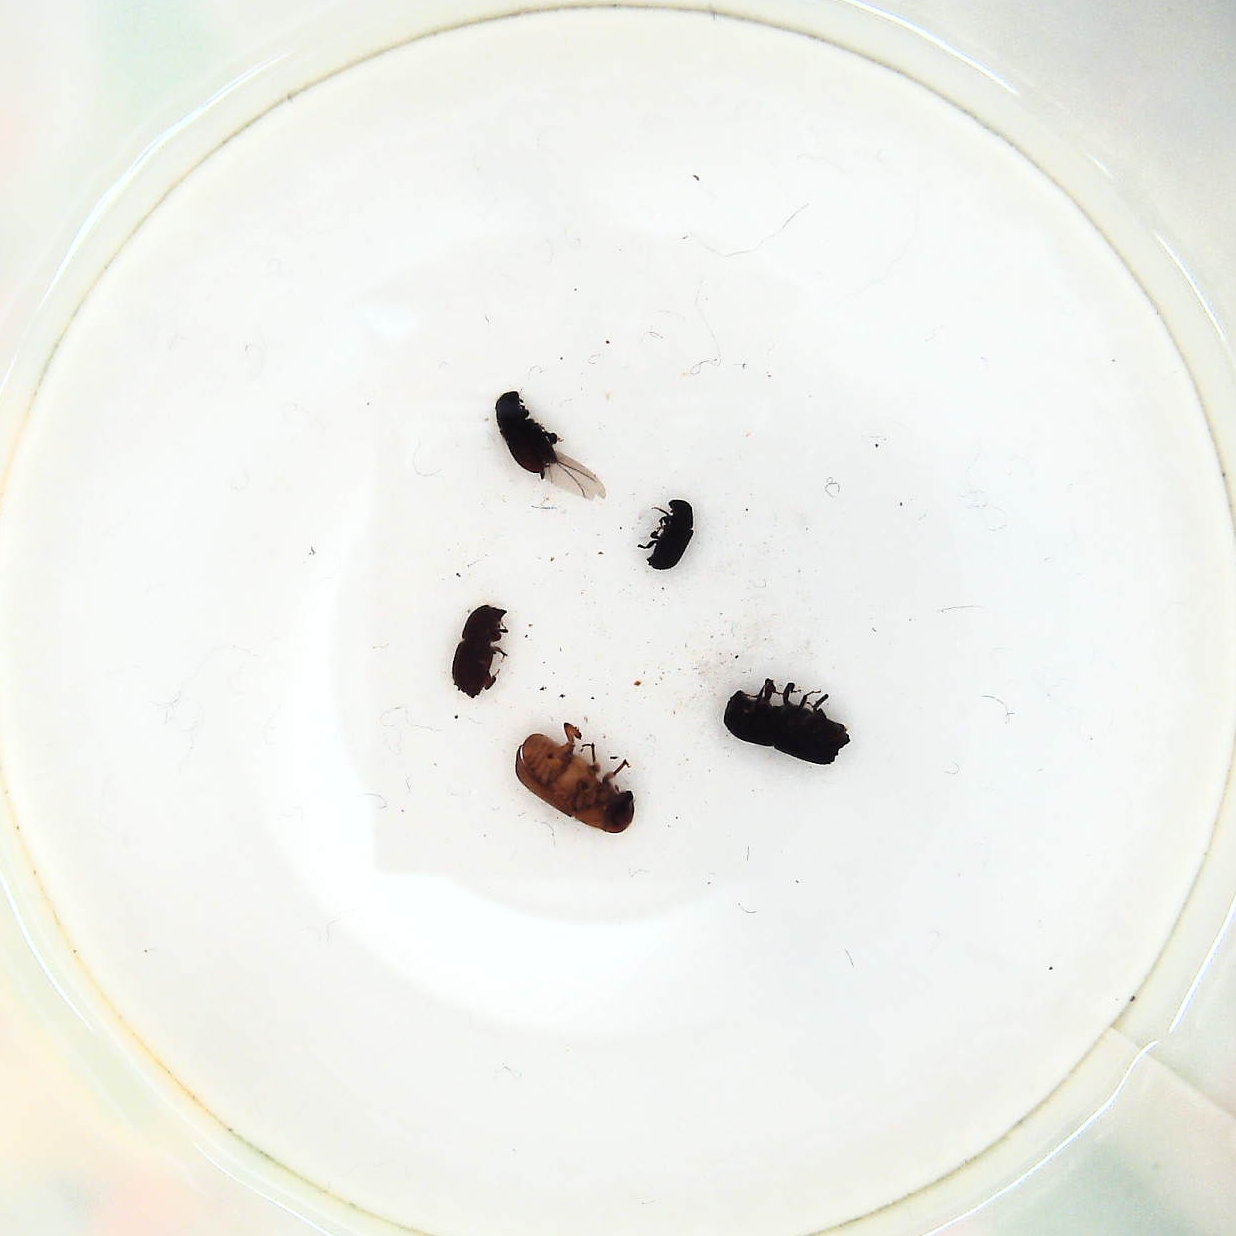Boerner: (720, 675, 852, 770)
Leconte: (510, 714, 640, 840)
armandi: (486, 381, 608, 504)
coleoptera: (635, 493, 701, 572)
linnaeus: (450, 596, 513, 701)
